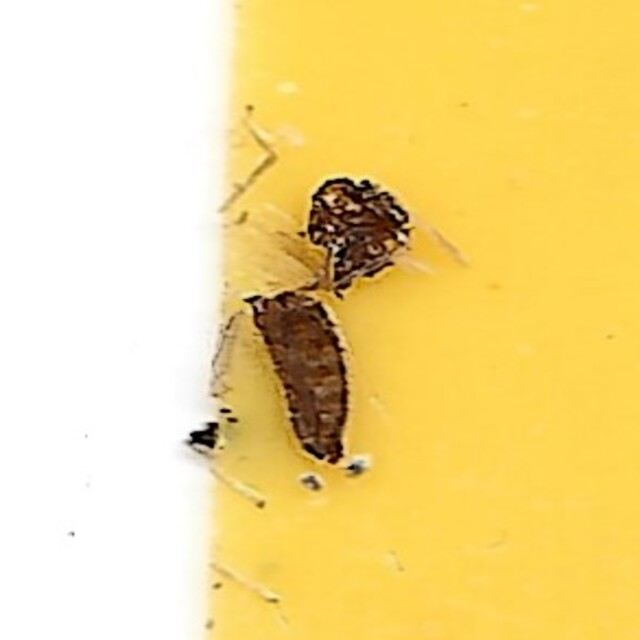Nematocera: (218, 167, 422, 473)
